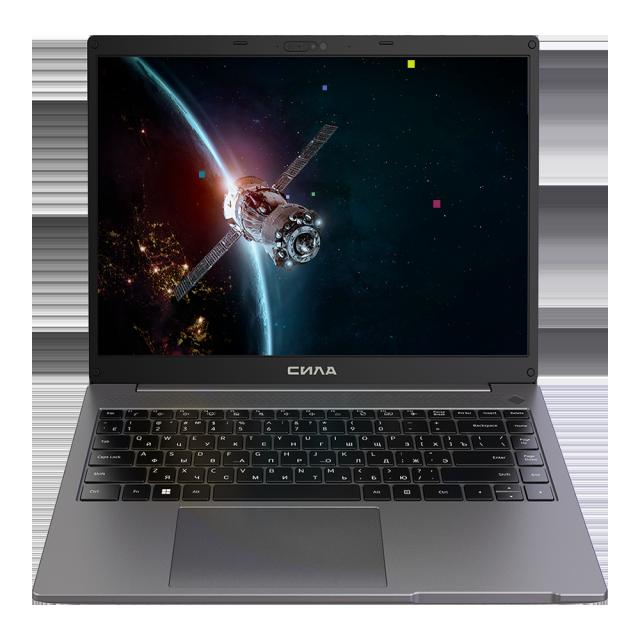dead_pixel: (433, 200, 440, 207), (408, 60, 414, 67), (199, 171, 204, 177), (323, 85, 326, 90), (286, 195, 289, 198), (312, 192, 314, 195)
